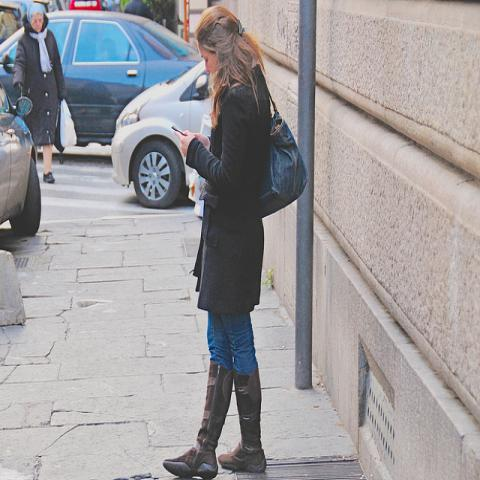car: (46, 15, 199, 144), (111, 63, 212, 208), (0, 79, 41, 237), (68, 0, 103, 11)
